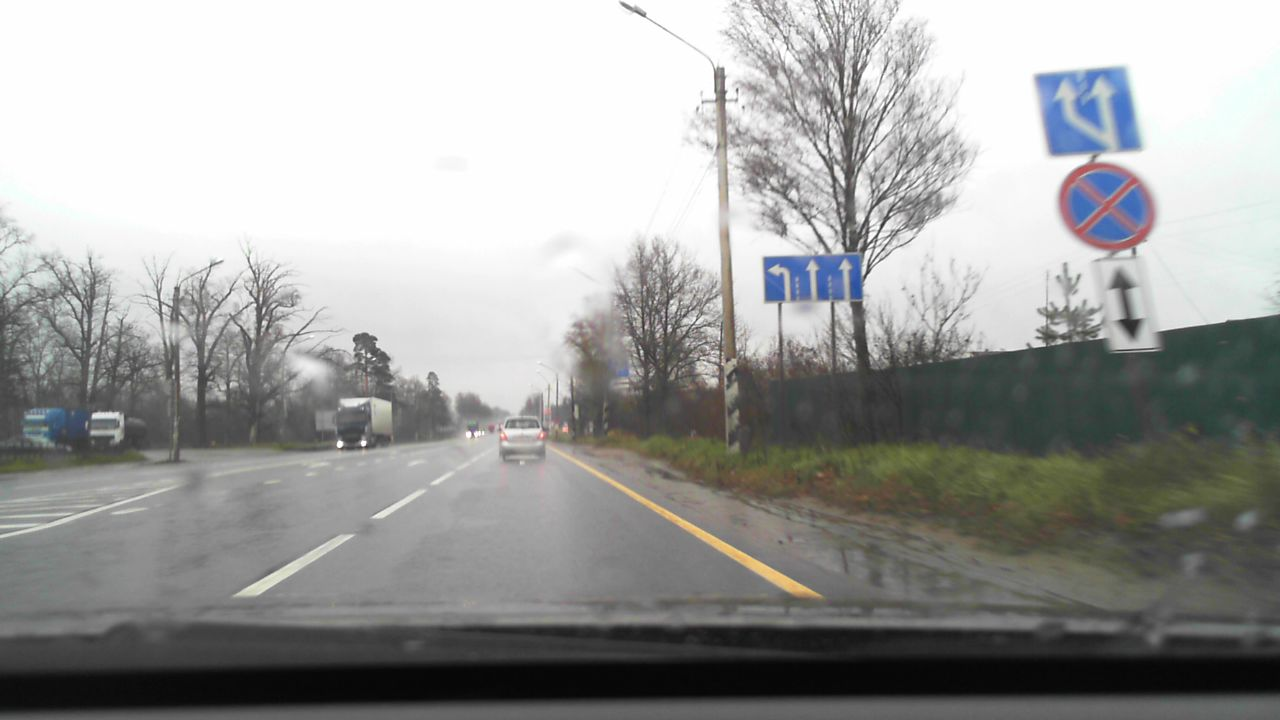No Parking: (1060, 163, 1155, 251)
